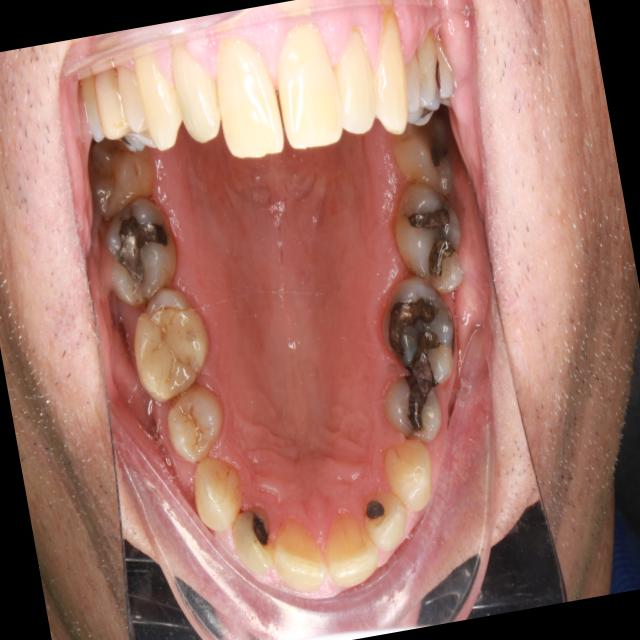tooth: (364, 253, 465, 402), (116, 274, 224, 410), (377, 165, 477, 308), (86, 187, 191, 312), (74, 122, 174, 231), (155, 373, 242, 478), (382, 108, 469, 202), (367, 362, 451, 456), (219, 494, 292, 601), (372, 417, 443, 520), (180, 441, 255, 538), (262, 506, 334, 602), (313, 506, 384, 597), (354, 479, 419, 562)
